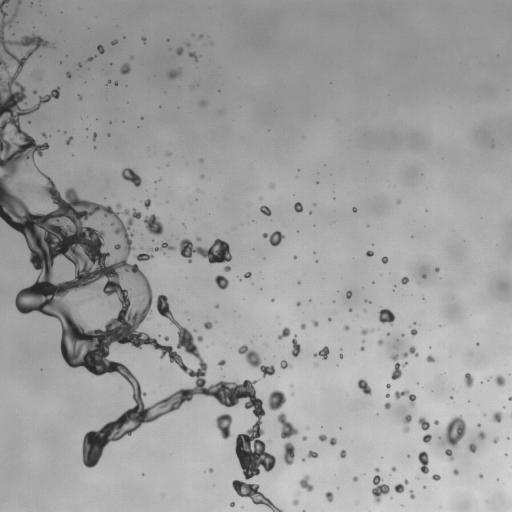droplet: (444, 415, 466, 447), (277, 412, 298, 438), (372, 475, 389, 503), (216, 413, 232, 439), (391, 354, 407, 379), (144, 214, 163, 235), (121, 168, 141, 186), (268, 390, 286, 410), (262, 230, 284, 246), (378, 308, 395, 325), (283, 442, 295, 465), (357, 379, 371, 395), (299, 475, 313, 491), (313, 346, 329, 359), (214, 275, 228, 289), (402, 346, 418, 358), (277, 327, 290, 339), (418, 416, 429, 430), (168, 69, 181, 79), (464, 373, 473, 387), (120, 63, 130, 74), (260, 205, 271, 215), (495, 375, 505, 386), (492, 411, 502, 422), (445, 449, 453, 461), (280, 360, 290, 369), (422, 434, 431, 443), (294, 202, 302, 212), (307, 450, 318, 457), (188, 52, 197, 60), (325, 492, 333, 501), (143, 198, 150, 208), (401, 276, 409, 284), (477, 431, 485, 439), (203, 322, 212, 329), (469, 443, 476, 452), (97, 45, 104, 53), (176, 47, 183, 55), (426, 355, 434, 362), (340, 449, 346, 458), (218, 360, 225, 367), (66, 136, 72, 144), (432, 474, 440, 480), (366, 250, 373, 256), (381, 256, 387, 263), (244, 272, 251, 278), (410, 329, 417, 335), (384, 402, 390, 409), (409, 490, 414, 498), (312, 320, 318, 326), (361, 329, 367, 335), (196, 335, 202, 341), (453, 469, 459, 475), (292, 499, 298, 505), (346, 291, 351, 298), (493, 436, 498, 443), (224, 266, 230, 271), (300, 323, 305, 329), (377, 339, 382, 345), (93, 133, 97, 140), (116, 203, 121, 208), (344, 325, 349, 330), (434, 420, 439, 425), (374, 467, 379, 472), (353, 476, 358, 481), (111, 40, 117, 44), (141, 37, 145, 42), (66, 72, 70, 77), (78, 95, 82, 100), (200, 101, 205, 105), (42, 132, 46, 137), (352, 207, 356, 212), (391, 467, 396, 471), (230, 502, 234, 507), (17, 0, 21, 4), (270, 184, 274, 188), (196, 237, 200, 241), (435, 267, 439, 271), (422, 274, 426, 278), (296, 302, 300, 306), (215, 304, 219, 308), (164, 336, 168, 340), (360, 346, 364, 350), (386, 384, 390, 388), (302, 436, 306, 440), (479, 474, 483, 478), (13, 11, 16, 16), (78, 63, 81, 67), (200, 175, 204, 178), (365, 300, 369, 303), (339, 354, 342, 358), (508, 396, 511, 400), (209, 468, 212, 472), (114, 82, 117, 85), (33, 90, 36, 93), (397, 200, 400, 203), (271, 298, 274, 301), (386, 394, 389, 397), (477, 423, 480, 426), (199, 35, 202, 37), (187, 43, 189, 46), (28, 120, 30, 123), (167, 152, 169, 155), (111, 238, 113, 241), (293, 256, 296, 258), (328, 318, 331, 320), (194, 329, 196, 332), (423, 486, 426, 488), (108, 81, 110, 83), (108, 134, 110, 136), (200, 159, 202, 161), (23, 193, 25, 195), (182, 223, 184, 225), (298, 282, 300, 284), (371, 329, 373, 331), (477, 343, 479, 345), (302, 459, 304, 461)
ligament: (0, 0, 271, 480), (232, 480, 283, 511), (179, 238, 231, 263), (238, 345, 274, 377), (394, 389, 415, 406), (148, 242, 175, 252), (418, 451, 429, 473), (291, 335, 301, 357), (318, 434, 336, 445), (394, 479, 408, 493), (135, 253, 153, 261), (403, 414, 411, 432), (87, 55, 95, 61), (302, 510, 305, 511)
